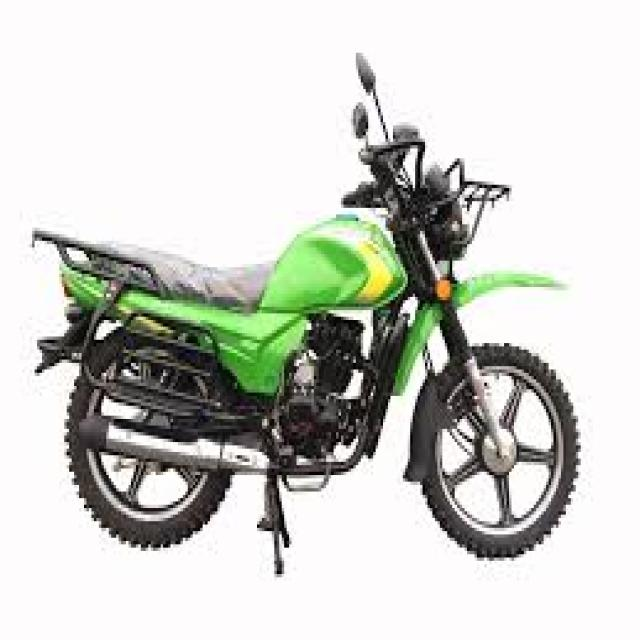bodaboda: (7, 22, 628, 596)
